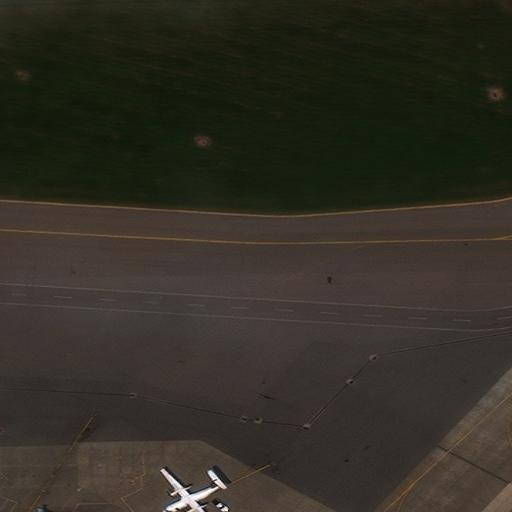Medium Civil Transport: (160, 470, 220, 512)
